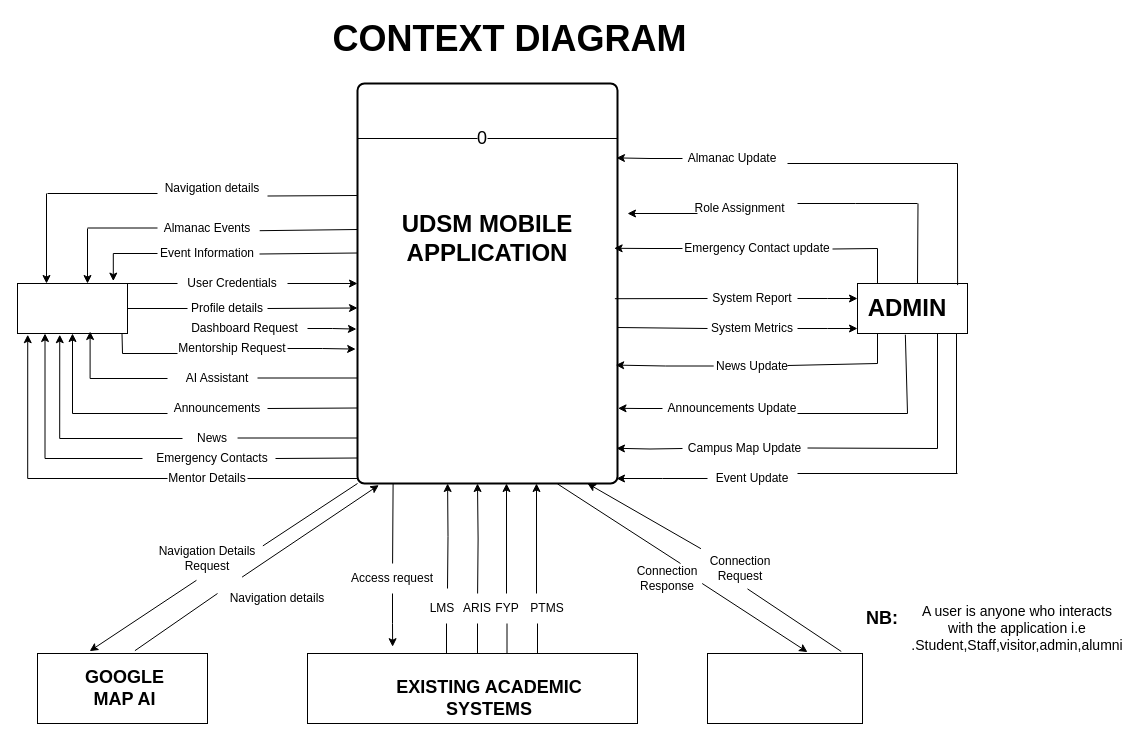
The diagram is 1140 pixels wide and 741 high, and some of its shapes have lost their labels. Each missing label, with the centre of its shape:
"ALUMNI" belongs at point 784,688.
"USER" belongs at point 72,308.
